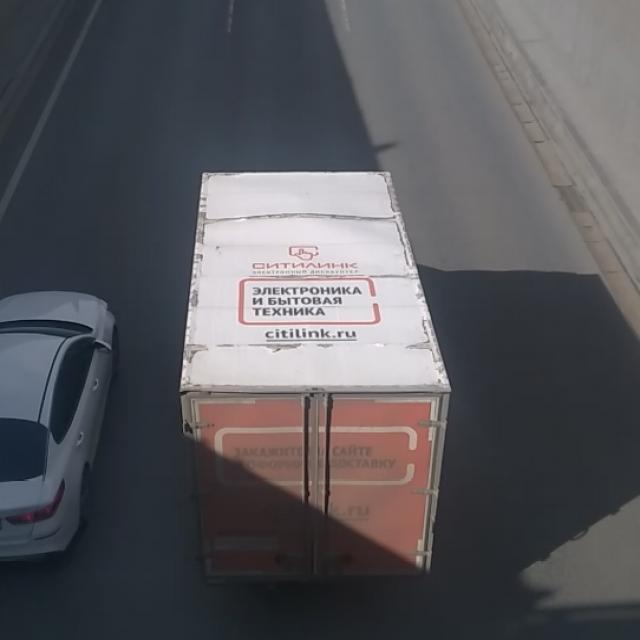car: (0, 287, 119, 564)
truck: (180, 168, 454, 588)
